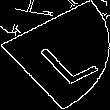L_NW: (18, 25, 92, 85)
